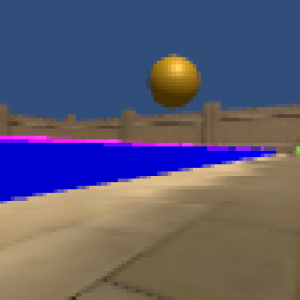goodGoal: (294, 143, 300, 154)
goodGoalMulti: (145, 51, 202, 110)
platform: (1, 145, 277, 208)
ramp: (1, 134, 124, 146)
